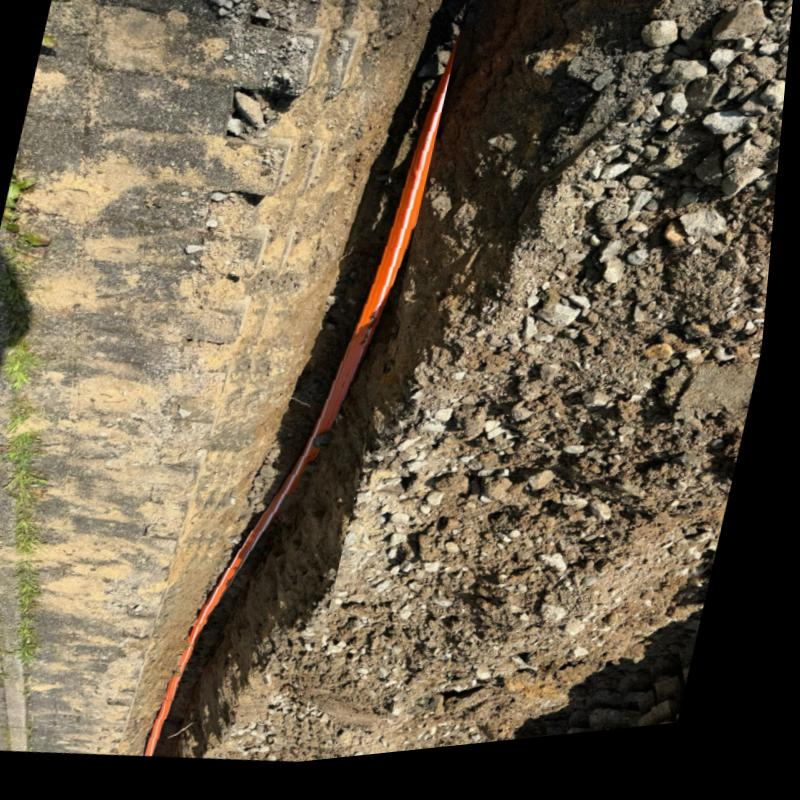Orang-Speednetrohrchen: (160, 8, 468, 753)
